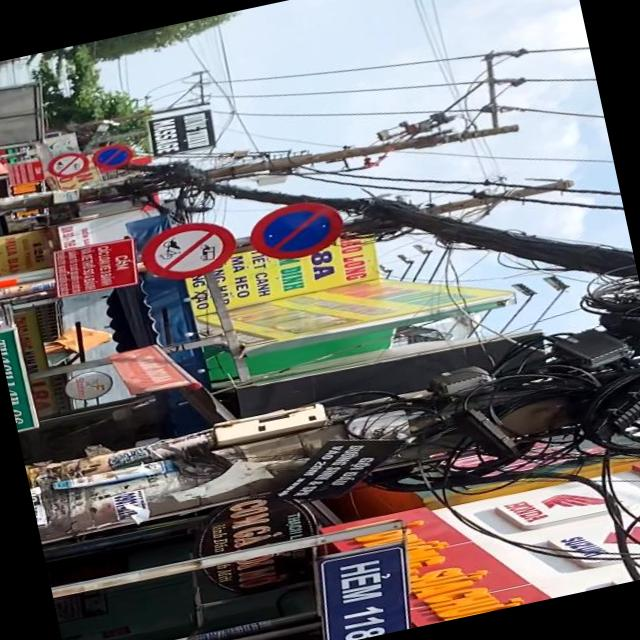P-131a: (244, 193, 350, 266)
